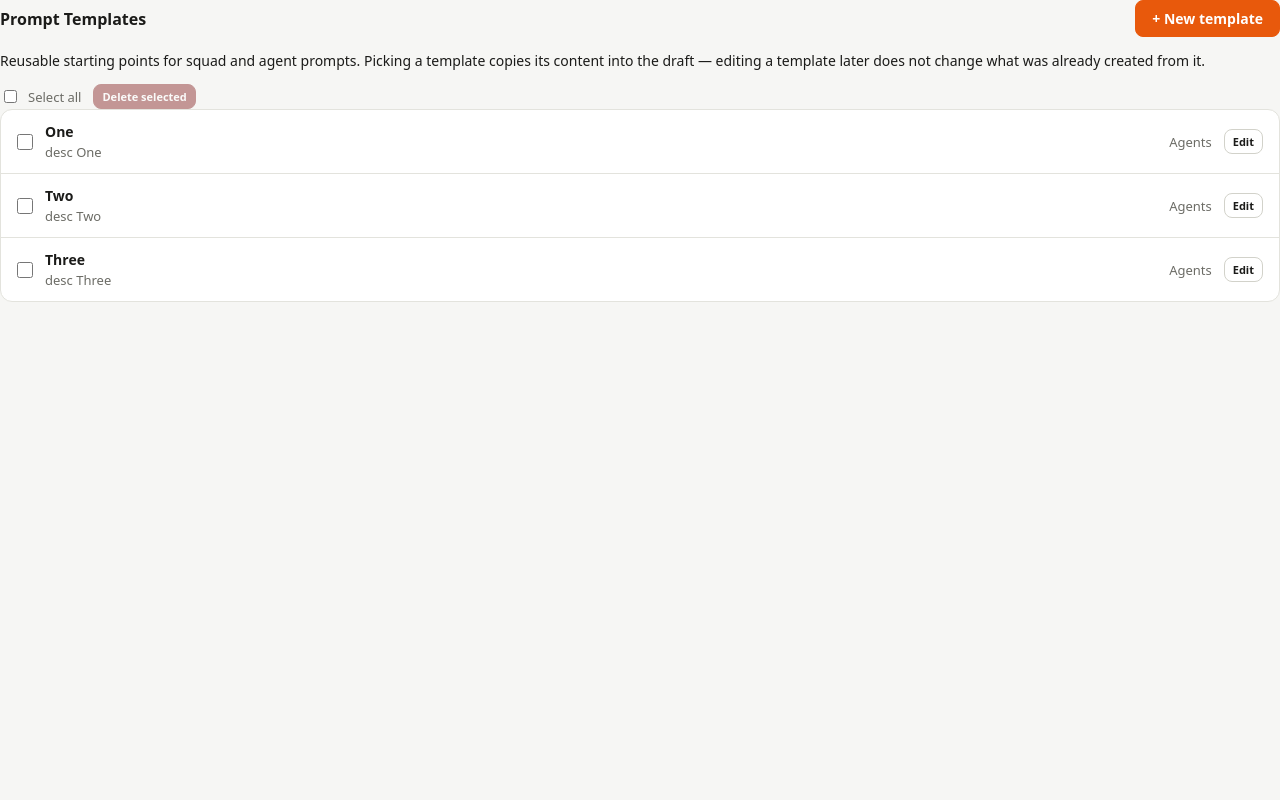
Test case: selection + bulk delete › bulk delete singular wording for one template
Click the checkbox named "Select template One" at (25, 142), box [17,134,33,150]
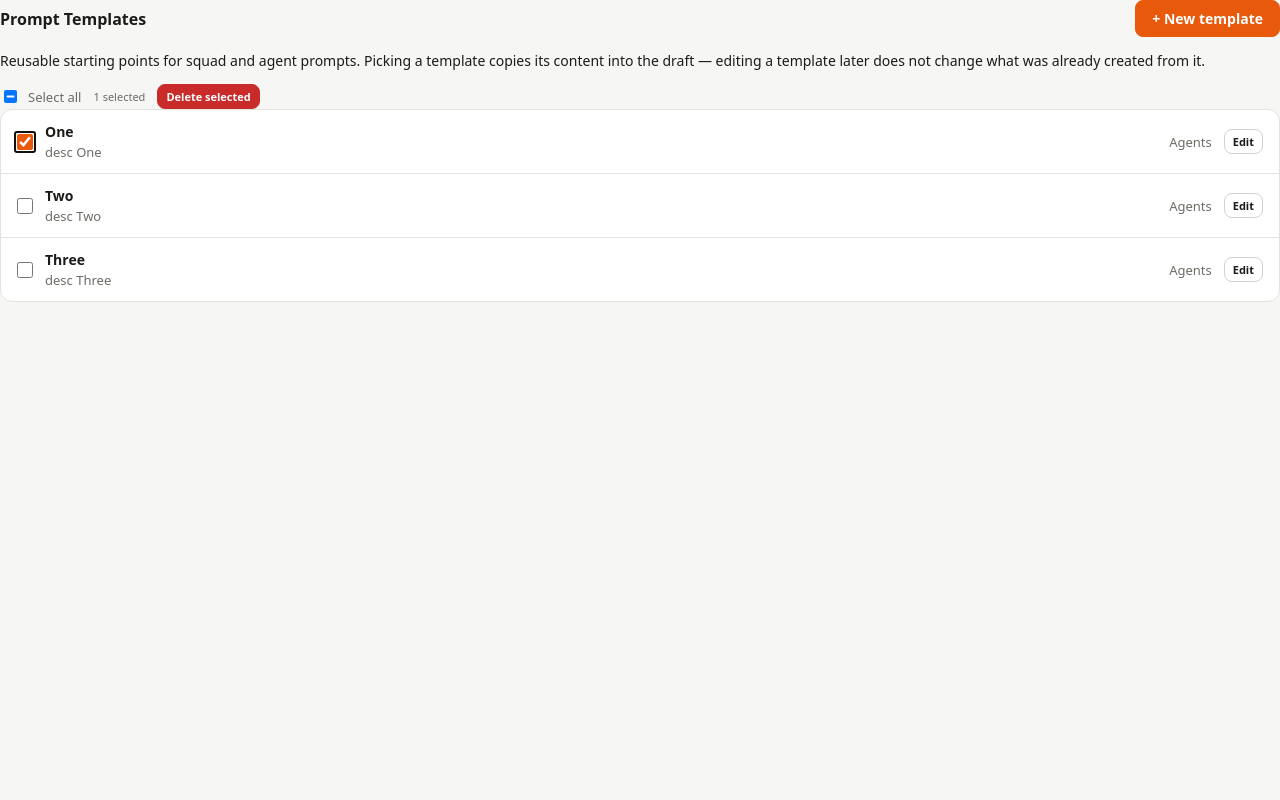
Click the button with aria-label "Delete 1 selected templates" at (209, 96), box [157,84,260,109]
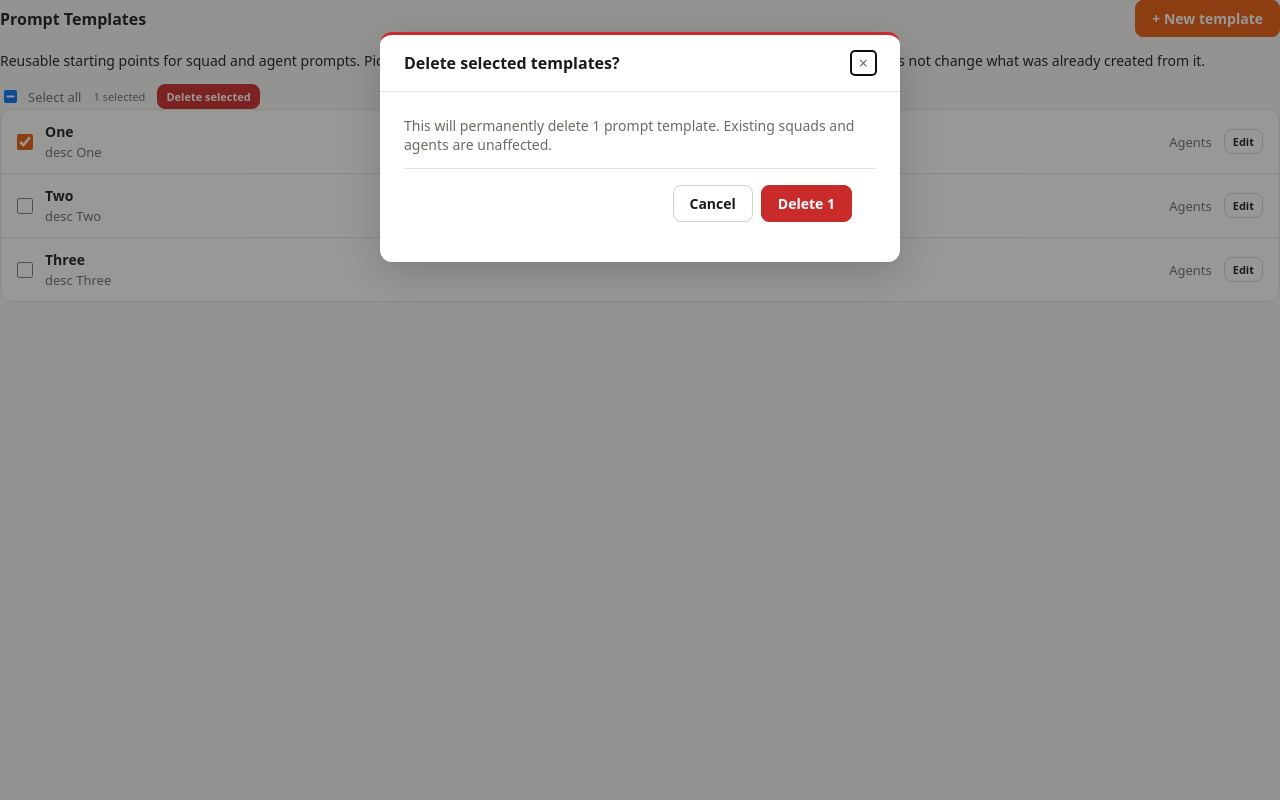
Expected: the text "permanently delete 1 prompt template." is shown, [404,116,854,154]
Click the button "Delete 1" at (806, 204), box [761,185,852,222]
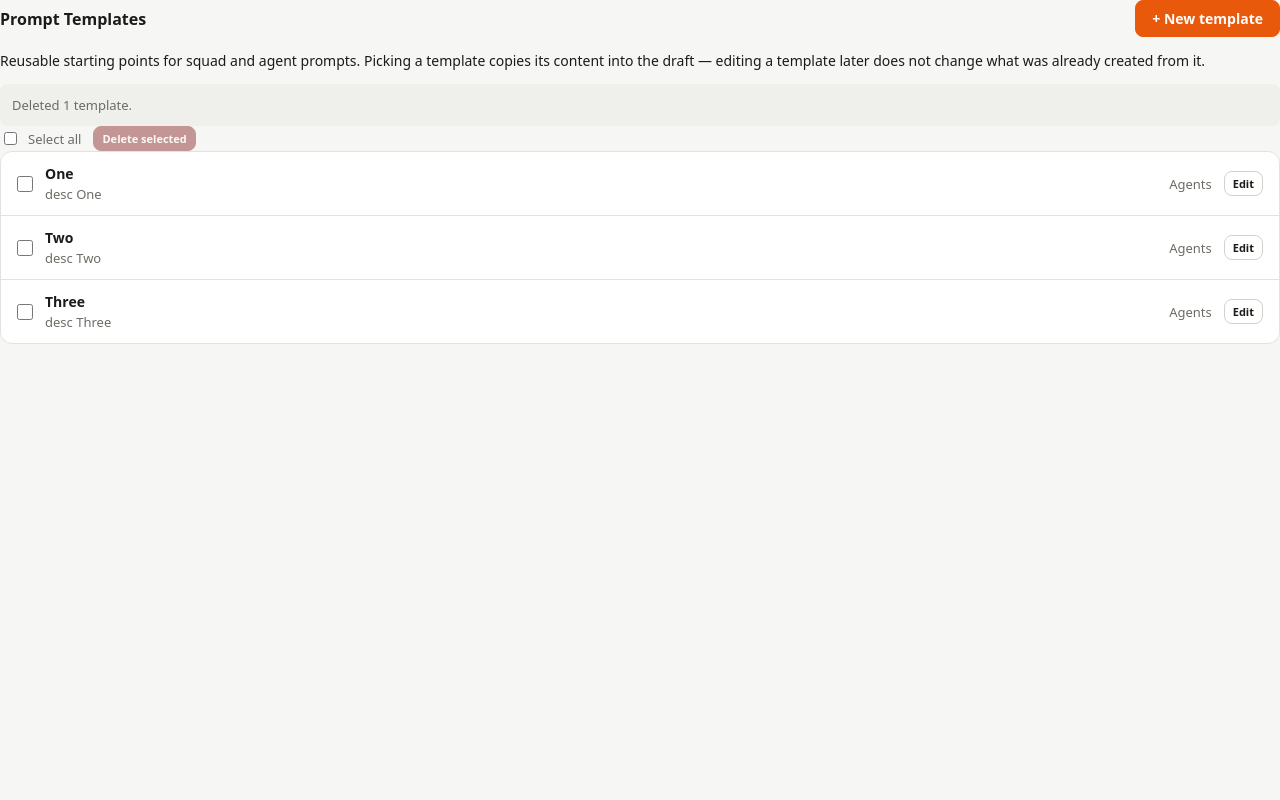
Expected: the text "Deleted 1 template." is shown, [0,84,1279,126]
